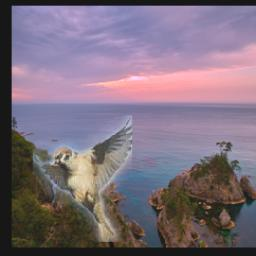Sparrow: (33, 115, 132, 242)
